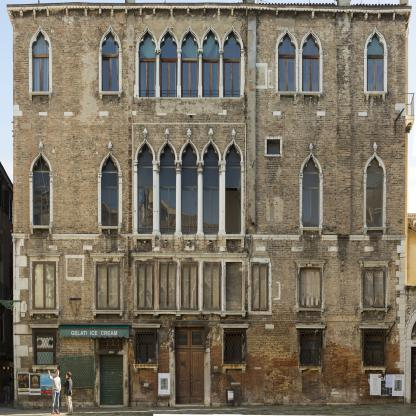Building Outline: (7, 0, 416, 409)
Cornice: (131, 252, 249, 259), (89, 253, 126, 258), (26, 252, 62, 257), (358, 260, 392, 265), (294, 260, 328, 265), (295, 324, 327, 329), (219, 324, 250, 329), (358, 325, 391, 329), (28, 324, 60, 328), (131, 324, 161, 328)
Door: (175, 349, 204, 405), (100, 355, 123, 405)
Facade: (13, 8, 405, 407)
Floor: (13, 117, 406, 250), (13, 250, 406, 323)
Floor Slab: (13, 110, 405, 117), (13, 243, 405, 250), (13, 316, 405, 323)
Ground Floor: (13, 323, 406, 406)
Molding: (8, 8, 410, 21)
Pillar: (174, 160, 183, 235), (152, 160, 161, 234), (218, 160, 226, 235), (196, 160, 204, 235), (155, 48, 161, 97), (177, 49, 182, 97), (198, 49, 203, 97), (219, 49, 224, 97)
Sill: (133, 310, 247, 319), (132, 234, 156, 248), (222, 234, 246, 248), (28, 309, 61, 318), (91, 310, 124, 318), (133, 363, 159, 373), (298, 366, 323, 376), (32, 365, 59, 374), (28, 91, 52, 101), (98, 91, 122, 101), (362, 226, 388, 235), (221, 364, 247, 373), (361, 366, 387, 375), (364, 91, 387, 101), (295, 308, 326, 315), (98, 226, 122, 235), (29, 225, 53, 234), (300, 91, 322, 100), (276, 91, 298, 100), (299, 227, 323, 235), (359, 308, 389, 314), (247, 311, 272, 315)
Top Floor: (13, 9, 406, 117)
Window: (96, 262, 120, 310), (33, 262, 57, 310), (363, 267, 385, 308), (251, 262, 268, 311), (159, 187, 176, 235), (181, 187, 198, 235), (137, 262, 154, 310), (203, 262, 220, 310), (181, 262, 198, 310), (159, 262, 176, 310), (301, 268, 321, 308), (226, 187, 242, 235), (137, 186, 153, 234), (203, 187, 219, 235), (226, 262, 242, 310), (181, 142, 198, 186), (300, 331, 321, 366), (364, 332, 385, 367), (159, 143, 176, 186), (138, 58, 156, 98), (160, 58, 178, 98), (302, 188, 320, 228), (203, 142, 219, 186), (223, 59, 241, 98), (181, 59, 199, 98), (202, 59, 220, 98), (101, 187, 119, 226), (32, 186, 50, 225), (135, 331, 156, 364), (137, 143, 153, 186), (225, 143, 241, 186), (278, 54, 296, 92), (366, 187, 383, 227), (224, 332, 245, 364), (302, 55, 320, 92), (175, 326, 204, 348), (32, 56, 49, 92), (102, 55, 119, 91), (367, 55, 384, 91), (36, 333, 54, 365), (101, 155, 119, 187), (32, 155, 50, 186), (366, 156, 384, 187), (302, 156, 320, 187), (223, 30, 241, 59), (202, 29, 220, 58), (138, 30, 156, 58), (159, 30, 177, 58), (181, 30, 199, 58), (102, 30, 119, 55), (32, 31, 49, 55), (278, 32, 296, 54), (302, 32, 320, 54), (367, 32, 384, 54), (99, 338, 123, 349), (267, 140, 280, 155)
dont: (47, 369, 61, 414), (63, 372, 73, 415), (225, 388, 235, 407)
